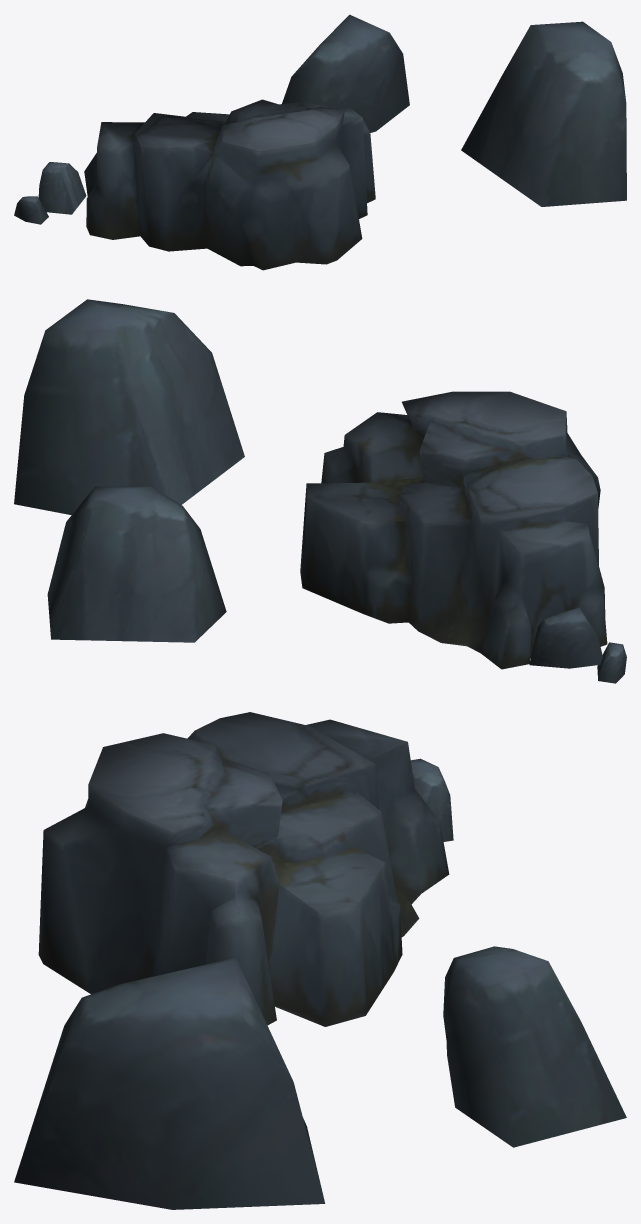
Rendered from Area_08_18.fbx.
3 renders of one model, top to bottom at view 1: azimuth 30°, elevation 25°; view 2: azimuth 150°, elevation 25°; view 3: azimuth 270°, elevation 25°, orthographic. The views are drawn at different scales.
Parts seen in each view (by area): view 1: Area_08_18; view 2: Area_08_18; view 3: Area_08_18.
Part boxes in pixels (left/top/right/bottom): Area_08_18: left=14, top=14, right=626, bottom=270; Area_08_18: left=14, top=299, right=626, bottom=683; Area_08_18: left=14, top=712, right=626, bottom=1209.
Size of the model in its own units: 2092 by 520 by 1343.
